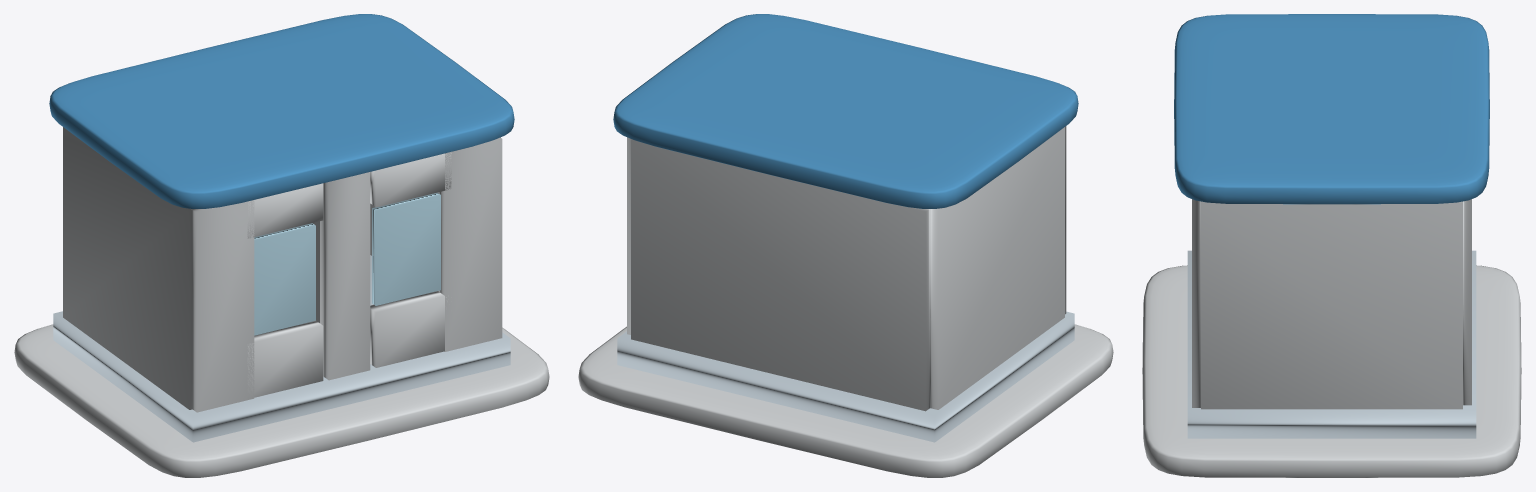
Rendered from building_model.glb.
The picture shows the model from 3 angles, left to right: view 1: azimuth 30°, elevation 25°; view 2: azimuth 150°, elevation 25°; view 3: azimuth 270°, elevation 25°; orthographic projection. The views are drawn at different scales.
Parts seen in each view (by area): view 1: Flat_Roof, Side_Wall-0.195, Model_Base, Ground_Slab, Facade_Pier-0.164, Facade_Pier0.164, Facade_Pier0, Glazing0.085, Glazing-0.085, Window_Sill0.085, Window_Sill-0.085, Window_Header0.085 (+1 smaller); view 2: Rear_Wall, Flat_Roof, Side_Wall-0.195, Model_Base, Ground_Slab, Side_Wall0.195; view 3: Flat_Roof, Side_Wall0.195, Model_Base, Ground_Slab, Facade_Pier0.164, Rear_Wall.
Boxes of the visible parts, x1=… form: Flat_Roof: x1=49, y1=14, x2=514, y2=208; Side_Wall-0.195: x1=63, y1=127, x2=196, y2=409; Model_Base: x1=14, y1=324, x2=549, y2=477; Ground_Slab: x1=53, y1=255, x2=510, y2=442; Facade_Pier-0.164: x1=191, y1=200, x2=254, y2=412; Facade_Pier0.164: x1=438, y1=137, x2=502, y2=351; Facade_Pier0: x1=320, y1=172, x2=370, y2=380; Glazing0.085: x1=372, y1=192, x2=440, y2=305; Glazing-0.085: x1=254, y1=223, x2=315, y2=335; Window_Sill0.085: x1=370, y1=291, x2=447, y2=367; Window_Sill-0.085: x1=247, y1=320, x2=323, y2=399; Window_Header0.085: x1=370, y1=152, x2=451, y2=207; Rear_Wall: x1=631, y1=139, x2=929, y2=411; Flat_Roof: x1=613, y1=14, x2=1078, y2=208; Side_Wall-0.195: x1=930, y1=127, x2=1064, y2=409; Model_Base: x1=578, y1=324, x2=1113, y2=477; Ground_Slab: x1=617, y1=311, x2=1074, y2=442; Side_Wall0.195: x1=627, y1=137, x2=631, y2=334; Flat_Roof: x1=1174, y1=14, x2=1489, y2=204; Side_Wall0.195: x1=1201, y1=201, x2=1462, y2=409; Model_Base: x1=1142, y1=265, x2=1521, y2=477; Ground_Slab: x1=1187, y1=250, x2=1476, y2=438; Facade_Pier0.164: x1=1192, y1=199, x2=1200, y2=407; Rear_Wall: x1=1463, y1=199, x2=1471, y2=405.
Size of the model in its own units: 0.52 by 0.349 by 0.42.
